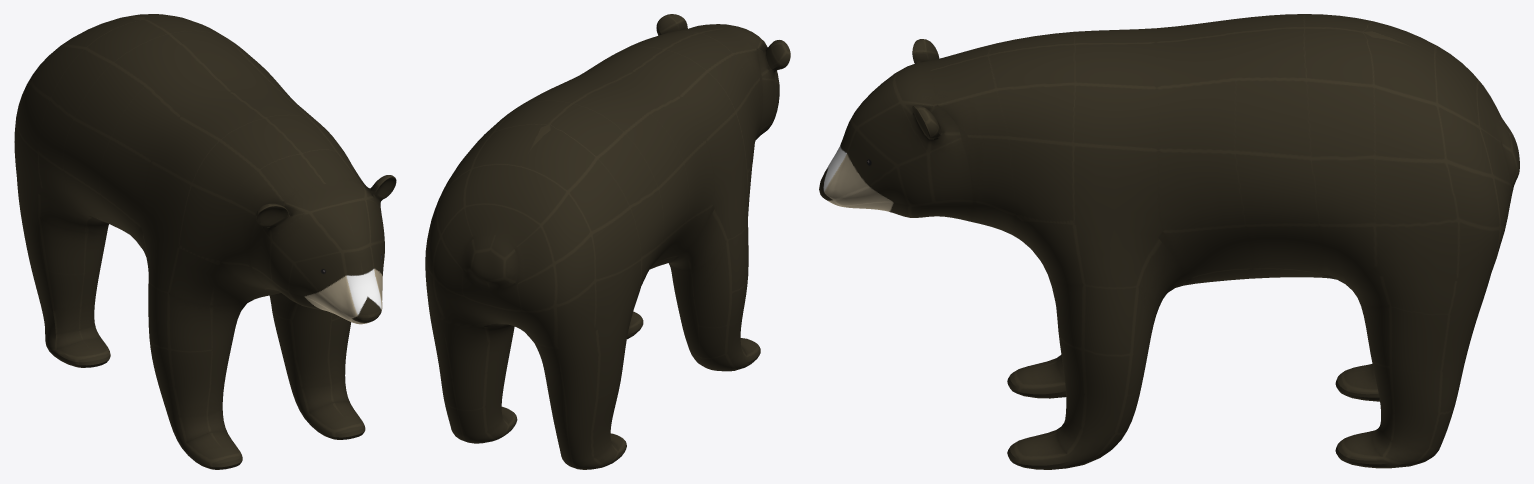
Rendered from BlackBear.obj.
The picture shows the model from 3 angles, left to right: view 1: azimuth 30°, elevation 25°; view 2: azimuth 150°, elevation 25°; view 3: azimuth 270°, elevation 25°; orthographic projection. The views are drawn at different scales.
Parts seen in each view (by area): view 1: Default; view 2: Default; view 3: Default.
Boxes of the visible parts, <box> form: Default: <box>14,14,396,469</box>; Default: <box>425,14,790,469</box>; Default: <box>819,14,1519,469</box>.
Size of the model in its own units: 0.5515 by 0.8676 by 1.38.
1 material, 1 textured.
